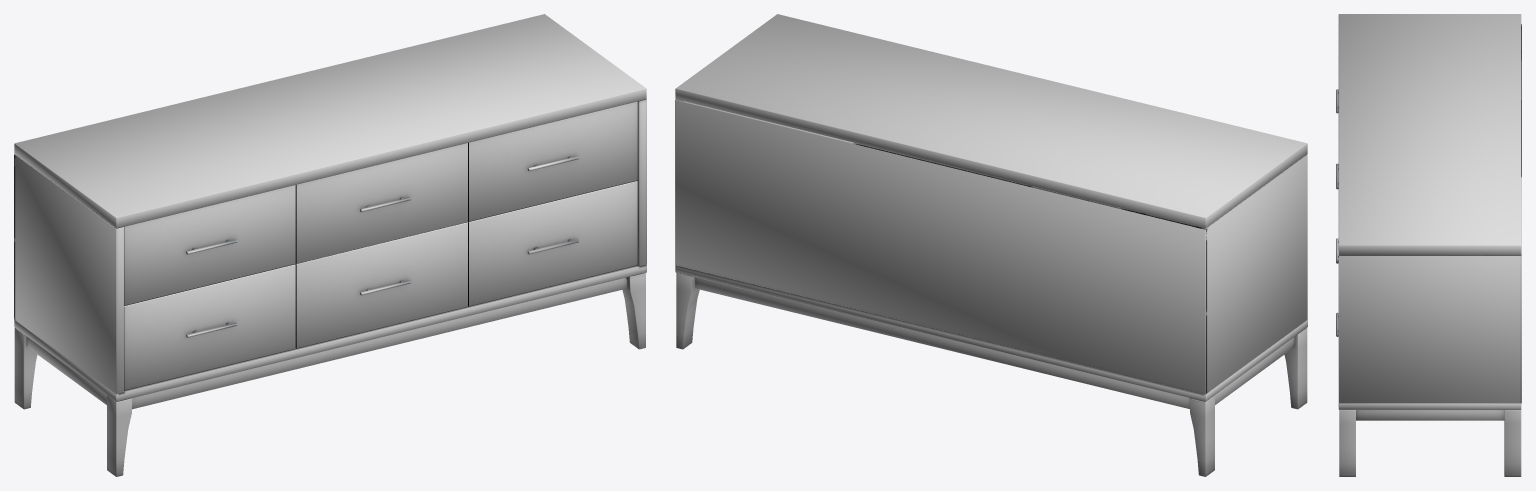
File: we-narrow6white_baked.glb
3 views of the same model, side by side, from view 1: azimuth 30°, elevation 25°; view 2: azimuth 150°, elevation 25°; view 3: azimuth 270°, elevation 25° (orthographic). The views are drawn at different scales.
Parts seen in each view (by area): view 1: we-narrow6white_baked; view 2: we-narrow6white_baked; view 3: we-narrow6white_baked.
Boxes of the visible parts, box(x1,y1,x2,y2) form: we-narrow6white_baked: box(14, 14, 646, 476); we-narrow6white_baked: box(675, 14, 1307, 476); we-narrow6white_baked: box(1336, 14, 1521, 476).
Size of the model in its own units: 152 by 71.22 by 51.68.
Materials: 1 (1 with a texture image).
